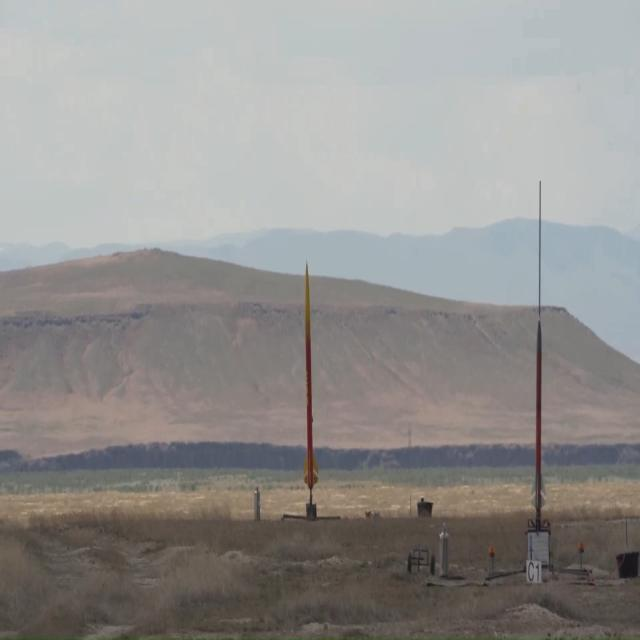Rocket: (299, 263, 318, 493), (529, 317, 547, 520)
